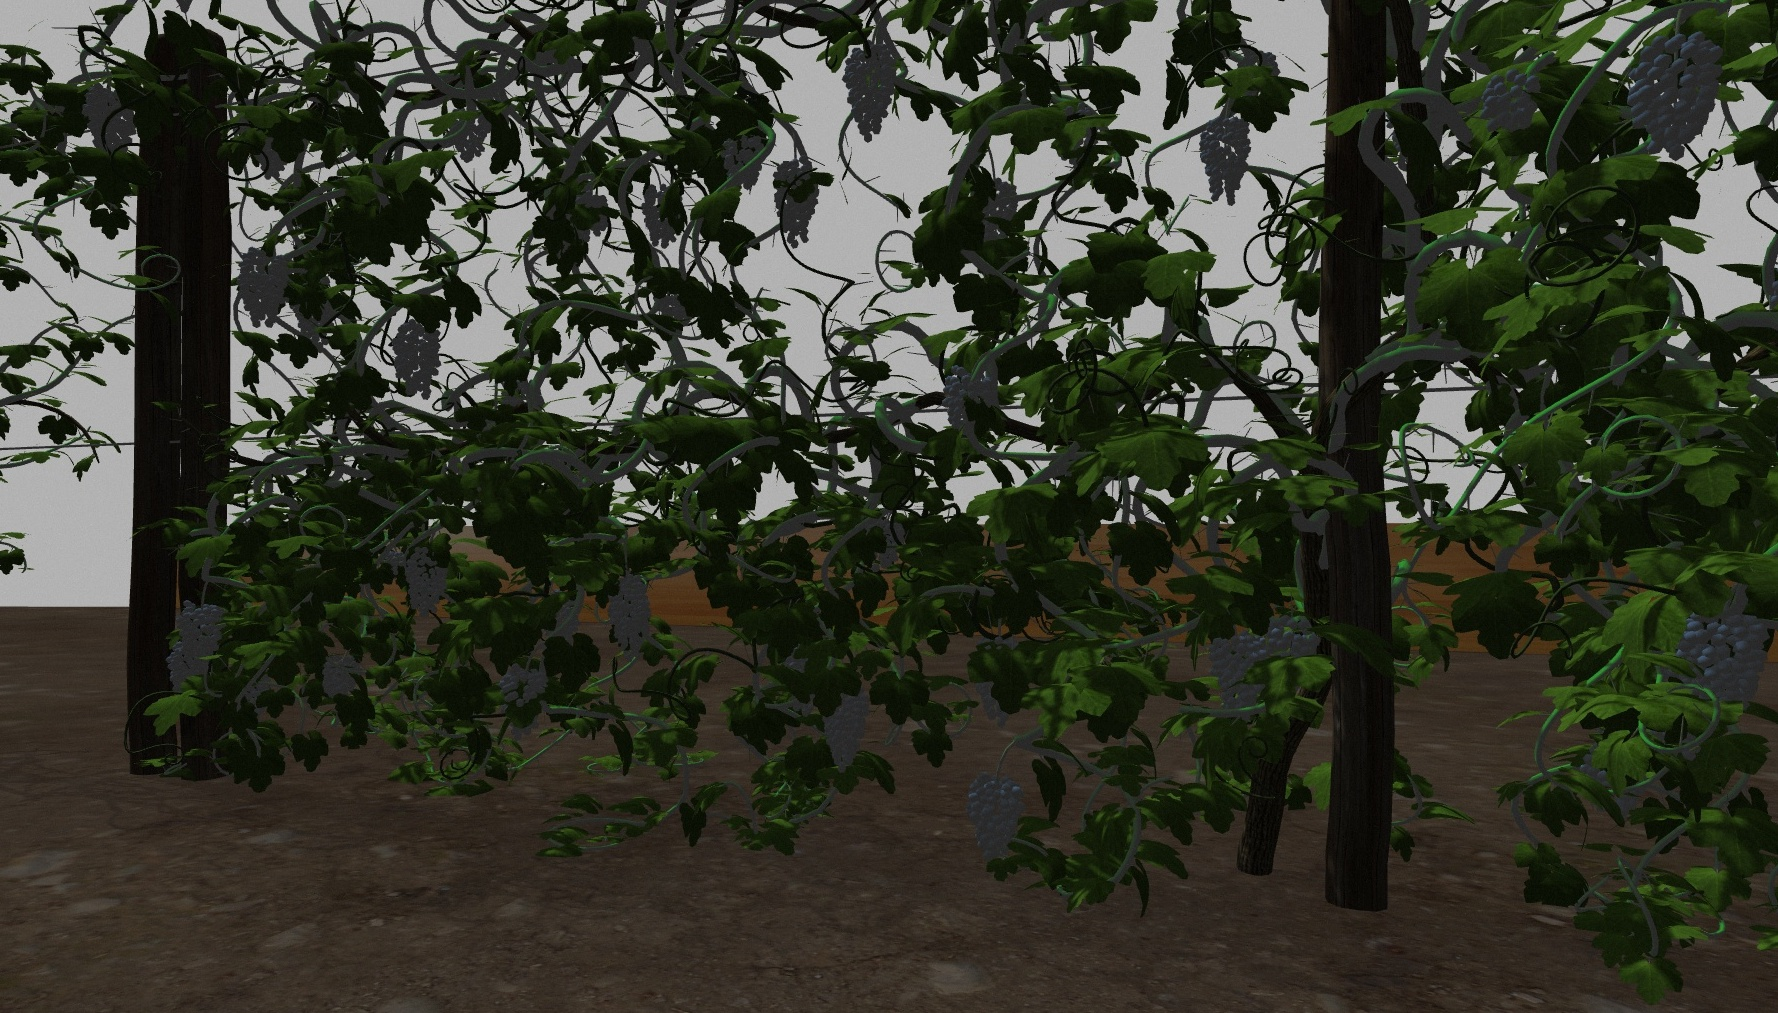grape: (1627, 27, 1724, 166), (1679, 589, 1772, 716), (843, 48, 902, 142), (966, 773, 1025, 863), (1197, 114, 1250, 205), (234, 247, 294, 327), (821, 686, 871, 775), (391, 315, 443, 398), (1482, 61, 1544, 131), (1213, 632, 1264, 714), (774, 160, 819, 250), (81, 85, 137, 154), (609, 572, 652, 655), (943, 373, 1001, 432), (404, 546, 449, 618), (180, 600, 223, 660), (499, 659, 550, 710), (642, 183, 681, 247), (1266, 618, 1319, 664), (723, 135, 766, 190), (319, 652, 364, 697), (167, 646, 209, 691)
